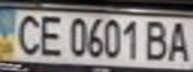0: (63, 15, 87, 57), (103, 17, 124, 60)
1: (121, 18, 142, 61)
6: (84, 16, 106, 58)
A: (163, 19, 193, 63)
B: (142, 17, 172, 62)
C: (9, 11, 45, 56)
E: (33, 11, 66, 57)
